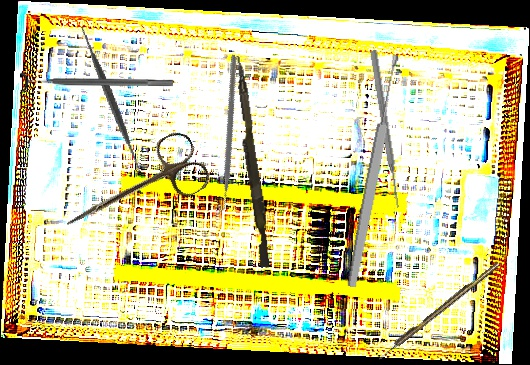Chopper: (150, 53, 299, 219)
Fixation Ring: (20, 71, 173, 95)
Hook Surgical: (375, 260, 502, 362)
Iris Scissors: (52, 126, 215, 256)
Pusher: (227, 55, 276, 268), (368, 49, 403, 209)
Spatula Surgical: (31, 20, 190, 178)
Surgical Spoon: (344, 53, 404, 289)
